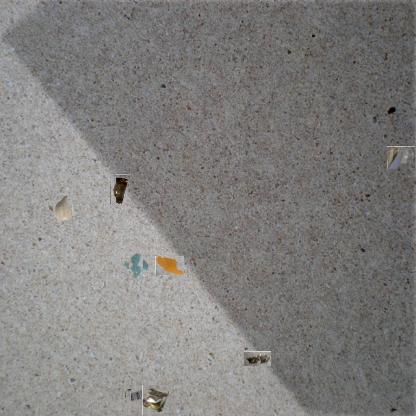dirty: (142, 386, 169, 416), (387, 146, 415, 171), (110, 174, 130, 204), (50, 198, 75, 222), (243, 351, 271, 366), (125, 388, 147, 402)
liquid: (155, 255, 184, 275), (126, 255, 146, 275)
